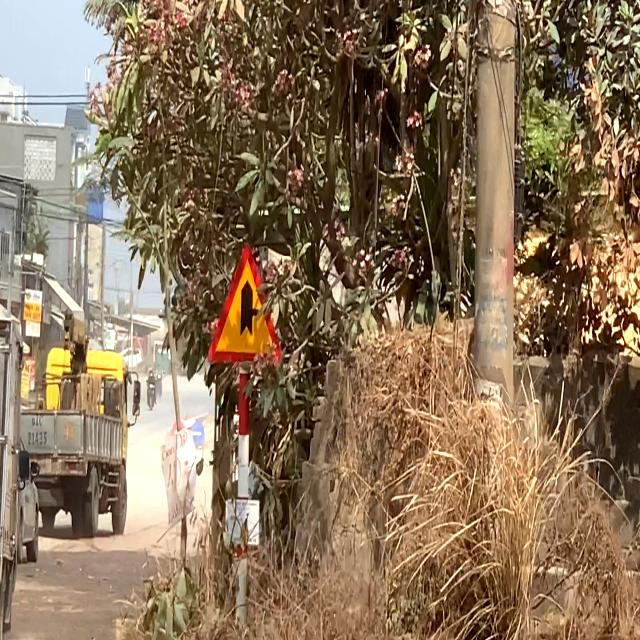W.207b: (206, 243, 282, 365)
